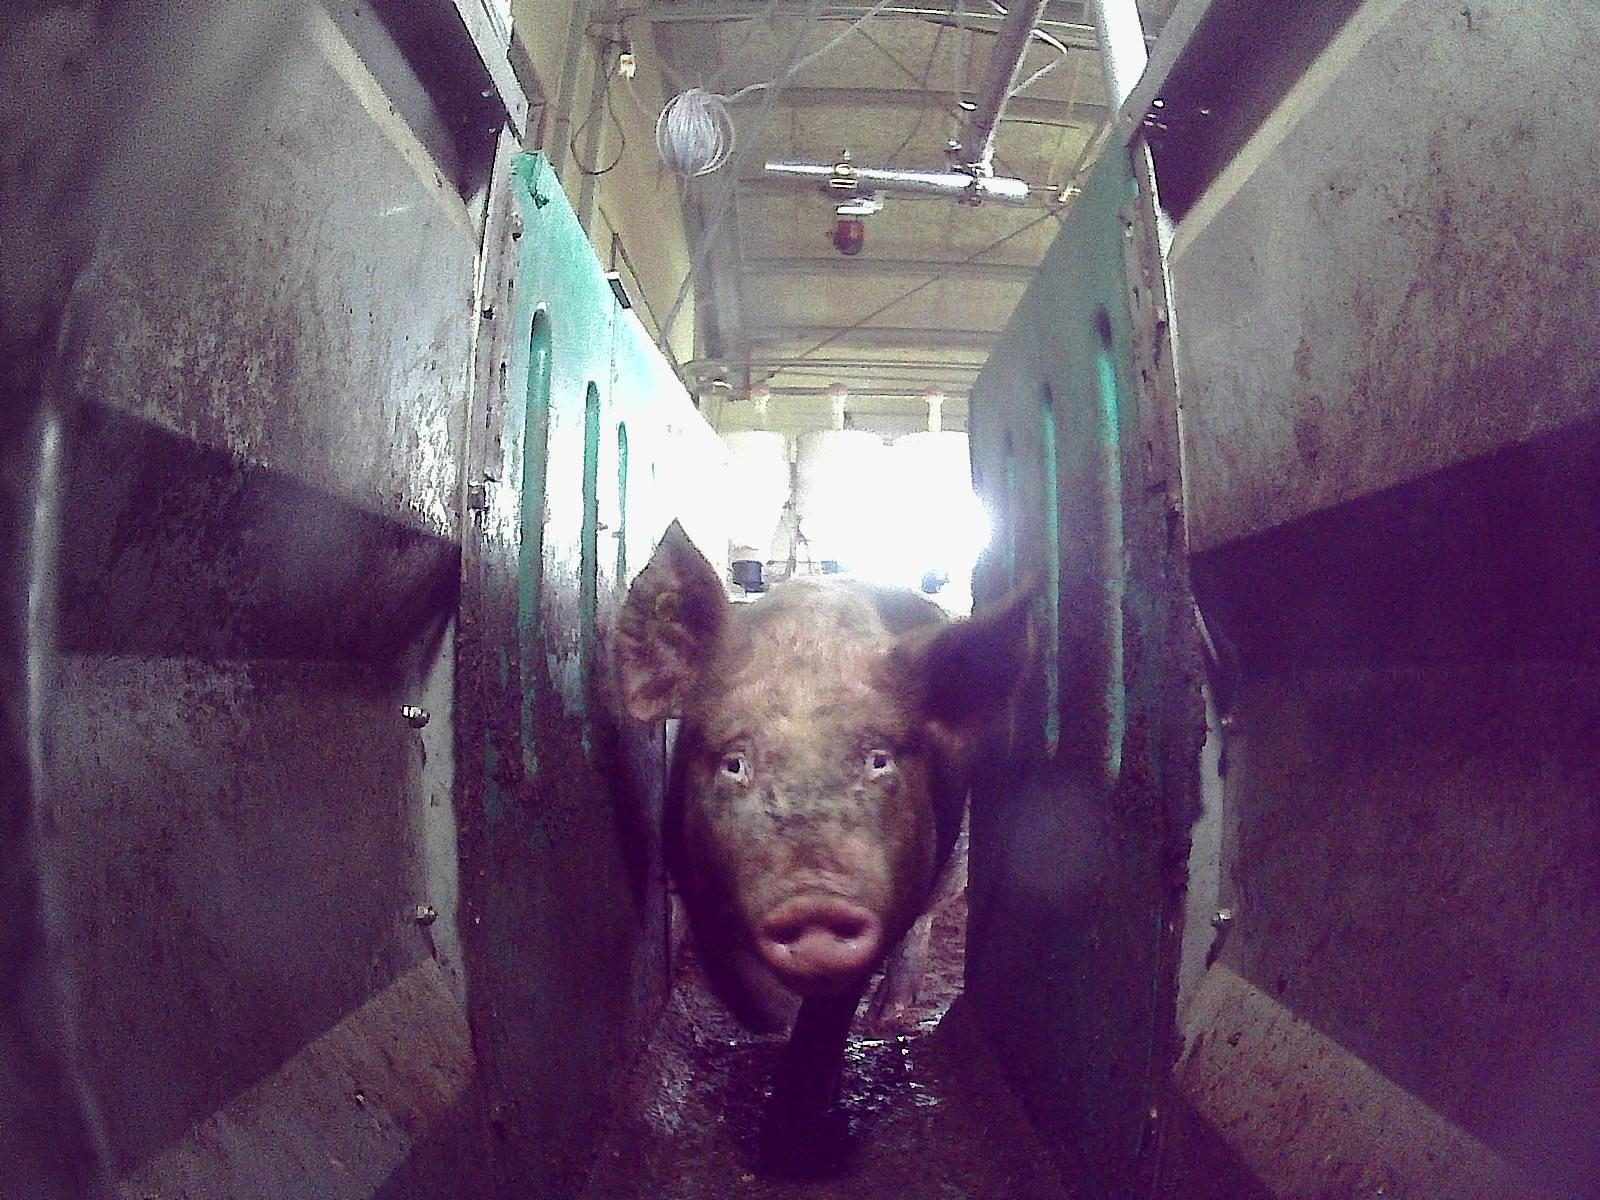Face: (686, 632, 918, 967)
